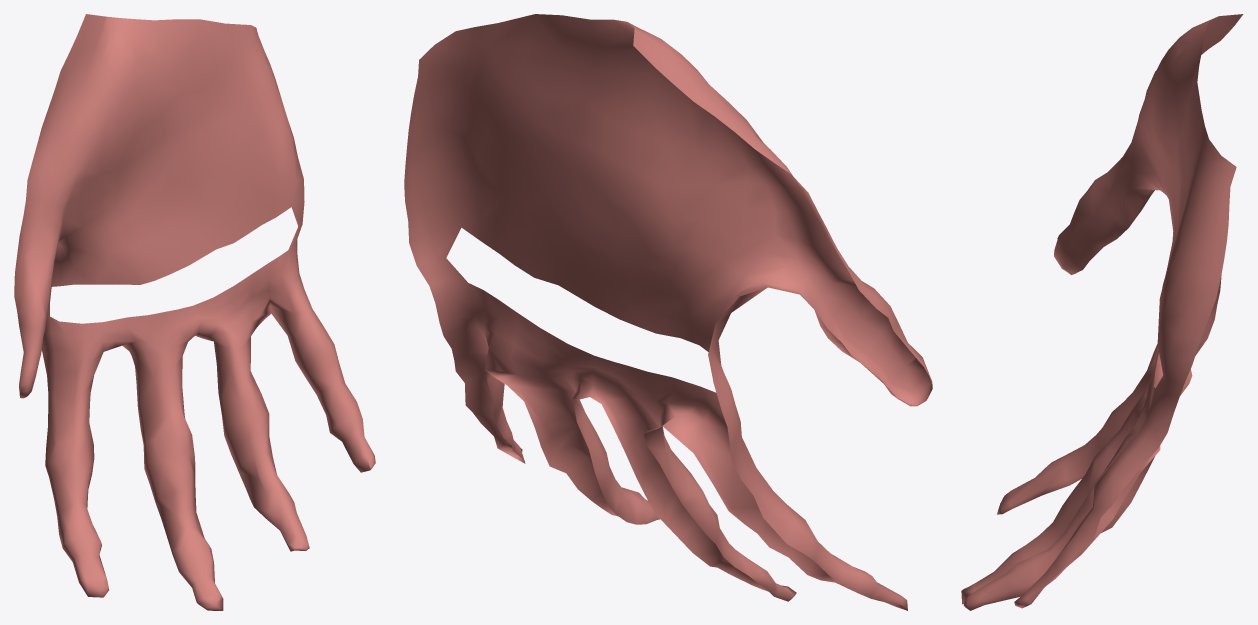
3 views of the same model, side by side, from view 1: azimuth 30°, elevation 25°; view 2: azimuth 150°, elevation 25°; view 3: azimuth 270°, elevation 25° (orthographic). The views are drawn at different scales.
Visible parts, largest first — view 1: ZA_aa3a7733c88a6c3b; view 2: ZA_aa3a7733c88a6c3b; view 3: ZA_aa3a7733c88a6c3b.
Part boxes in pixels (x1,y1,x2,y2): ZA_aa3a7733c88a6c3b: (14, 14, 375, 610); ZA_aa3a7733c88a6c3b: (404, 14, 932, 610); ZA_aa3a7733c88a6c3b: (961, 14, 1243, 610).
Size of the model in its own units: 0.1093 by 0.1561 by 0.0681.
